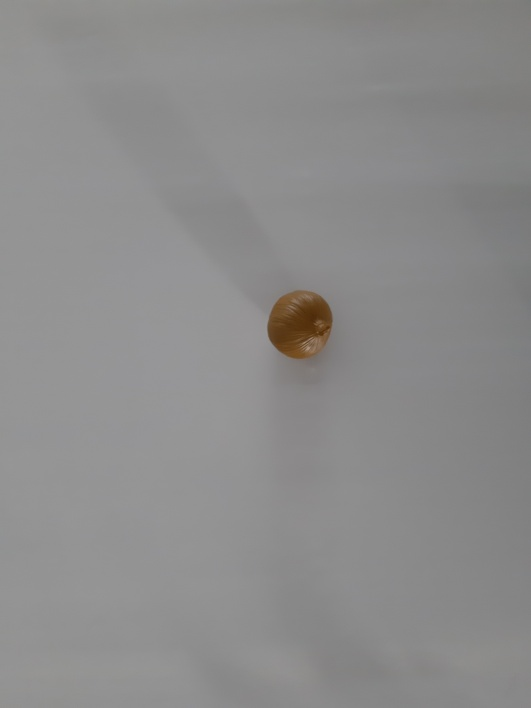onion: (248, 275, 352, 375)
